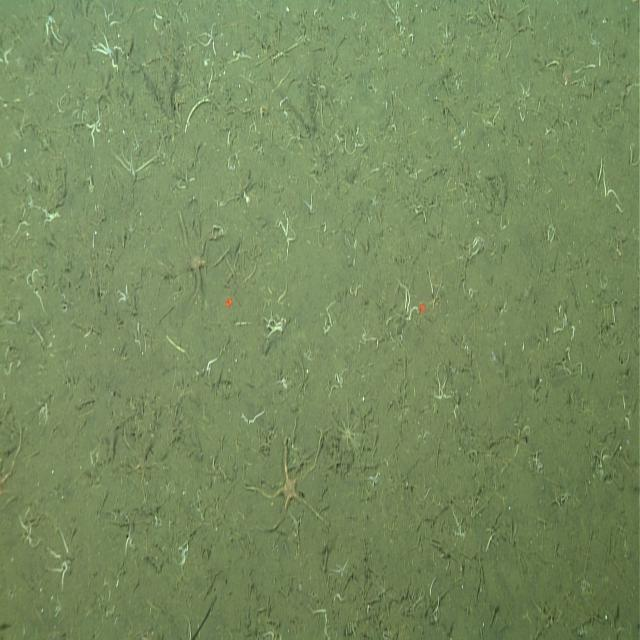Brittle Star: (242, 426, 332, 555), (43, 522, 86, 596), (121, 436, 166, 498), (90, 25, 126, 73), (14, 504, 46, 554), (274, 206, 300, 256), (196, 18, 224, 61), (261, 307, 290, 343), (0, 454, 17, 514)
